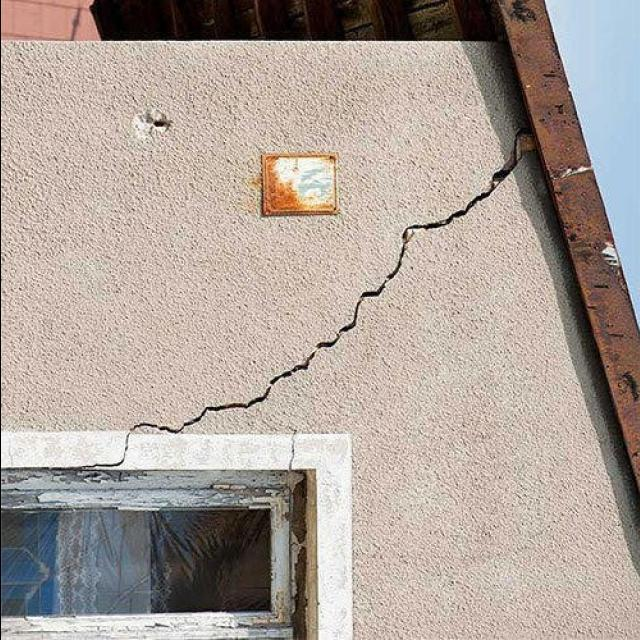Crack: (103, 124, 536, 467)
